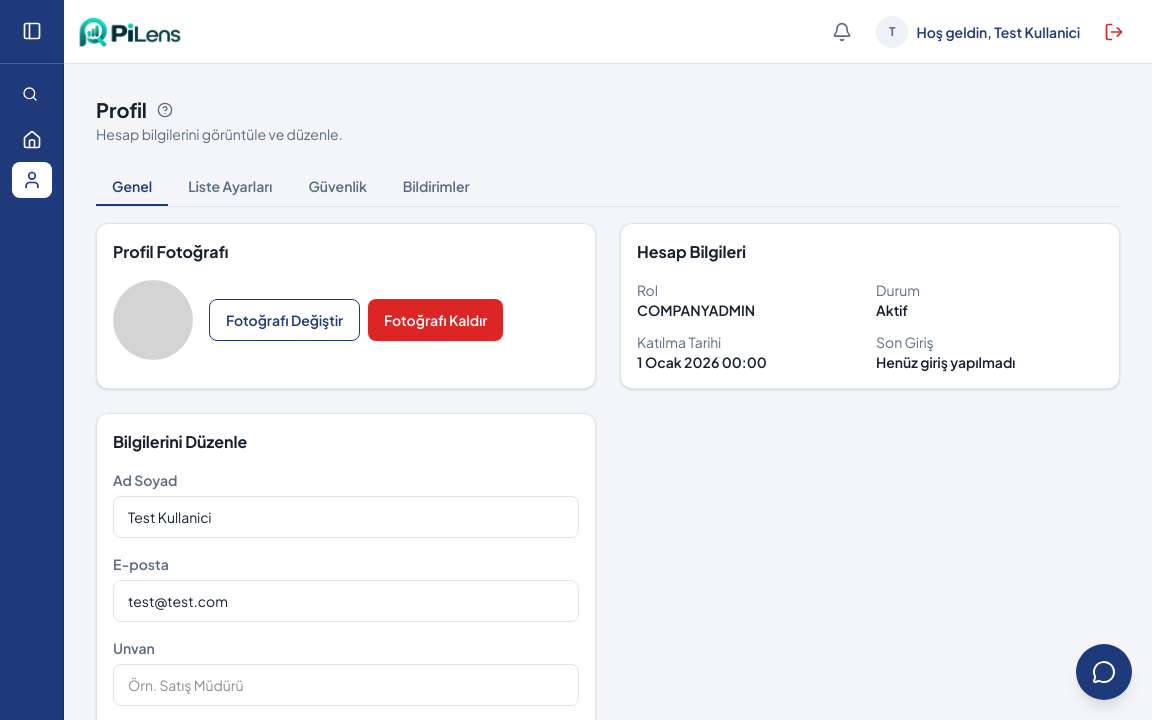
Test: ProfilePage - Profil Fotografi (G2) › "Fotoğrafı Kaldır" onaylaninca DELETE cagrilir
The image size is (1152, 720).
Step 1. Click the button "Fotoğrafı Kaldır" → (436, 320), box [368, 299, 503, 341]
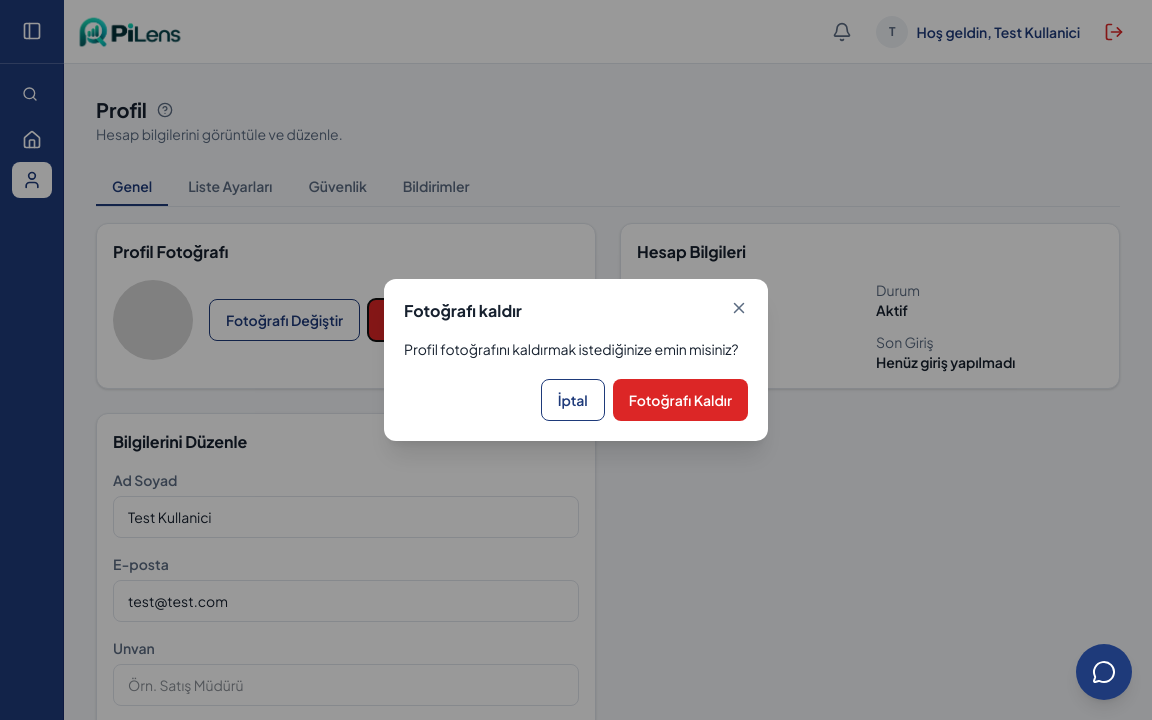
Step 2. Click the button "Fotoğrafı Kaldır" → (680, 400), box [613, 379, 748, 421]
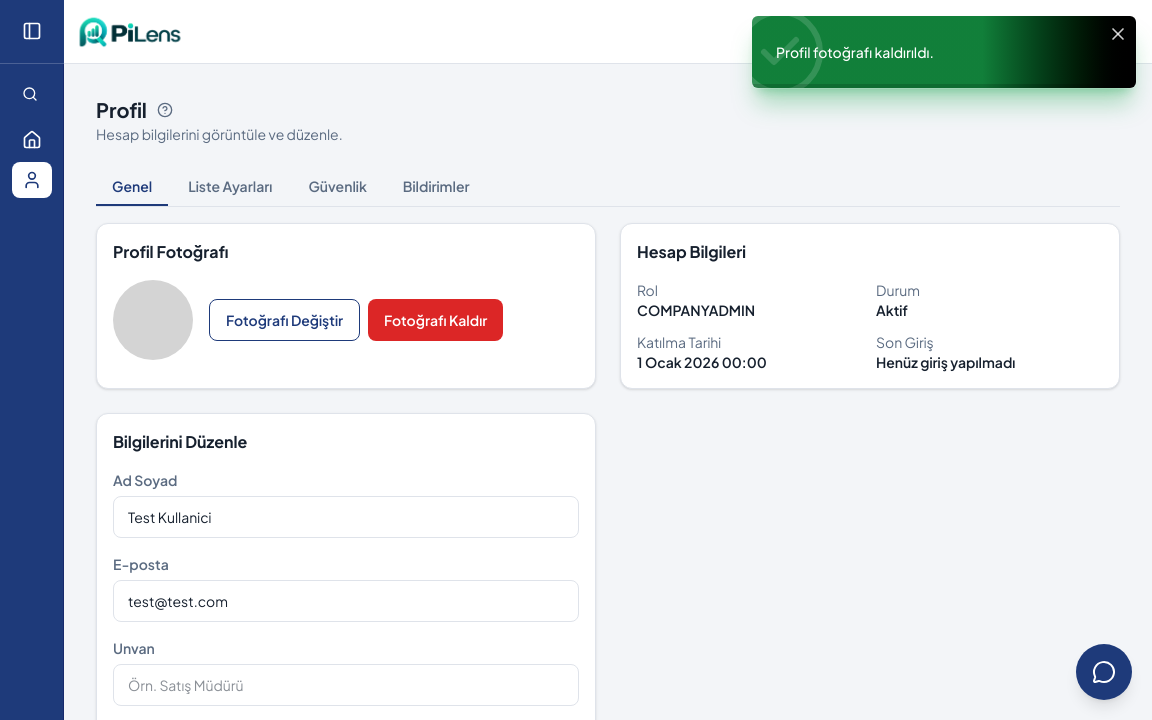
Expected: the text "Profil fotoğrafı kaldırıldı." is shown, [776, 43, 934, 61]
